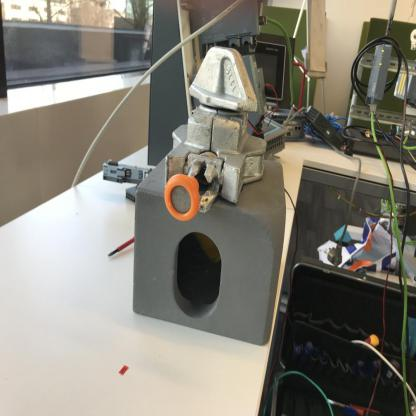CornerCasting: (130, 160, 286, 352)
Twistlock: (164, 47, 268, 221)
